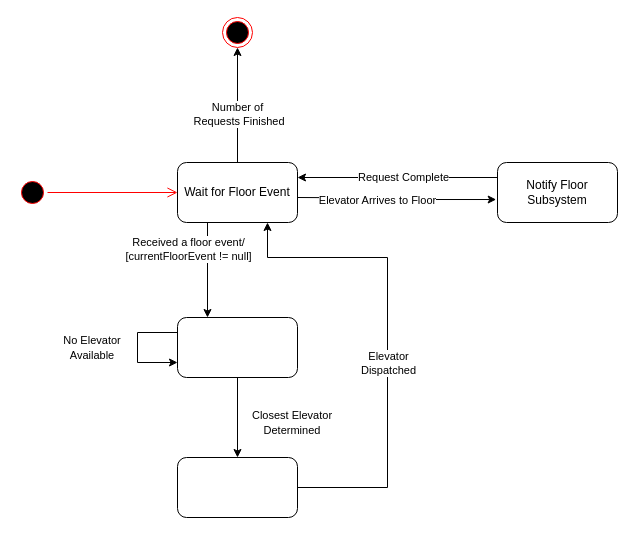
Some shapes in this 635 by 535 pixel diagram are drawn without their labels. The shapes that lost their labels are listed below. From the top down, each one's centre as x and y in pixels, then its label:
At (237,347): "Select Elevator".
At (237,487): "Notify Elevator".
